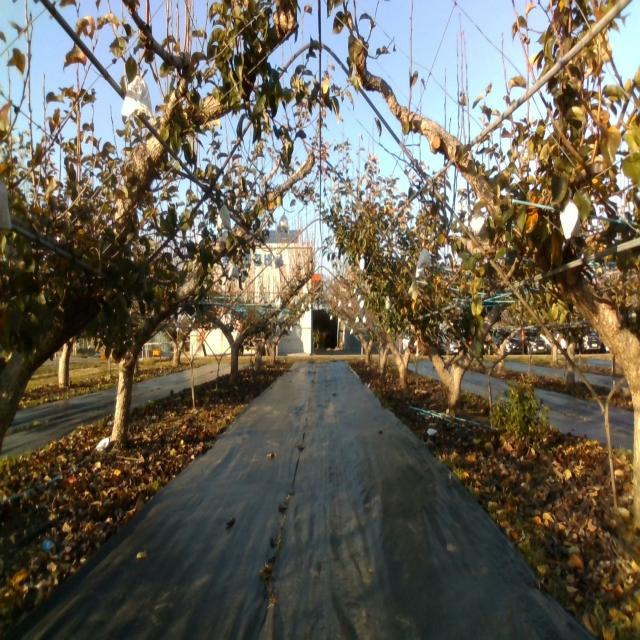pearbags: (122, 74, 153, 121), (559, 200, 580, 240), (214, 204, 232, 231), (471, 210, 486, 238), (418, 248, 432, 269), (277, 212, 289, 232)
